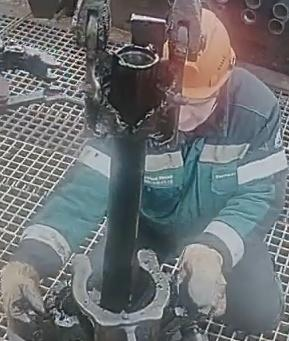gloves: (175, 240, 228, 320), (0, 249, 45, 327)
helmet: (182, 7, 239, 111)
vest: (82, 112, 289, 245)
